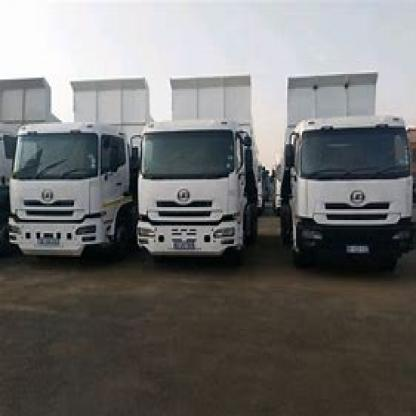dump_truck: (274, 46, 414, 272), (133, 56, 261, 266), (10, 68, 134, 276)
